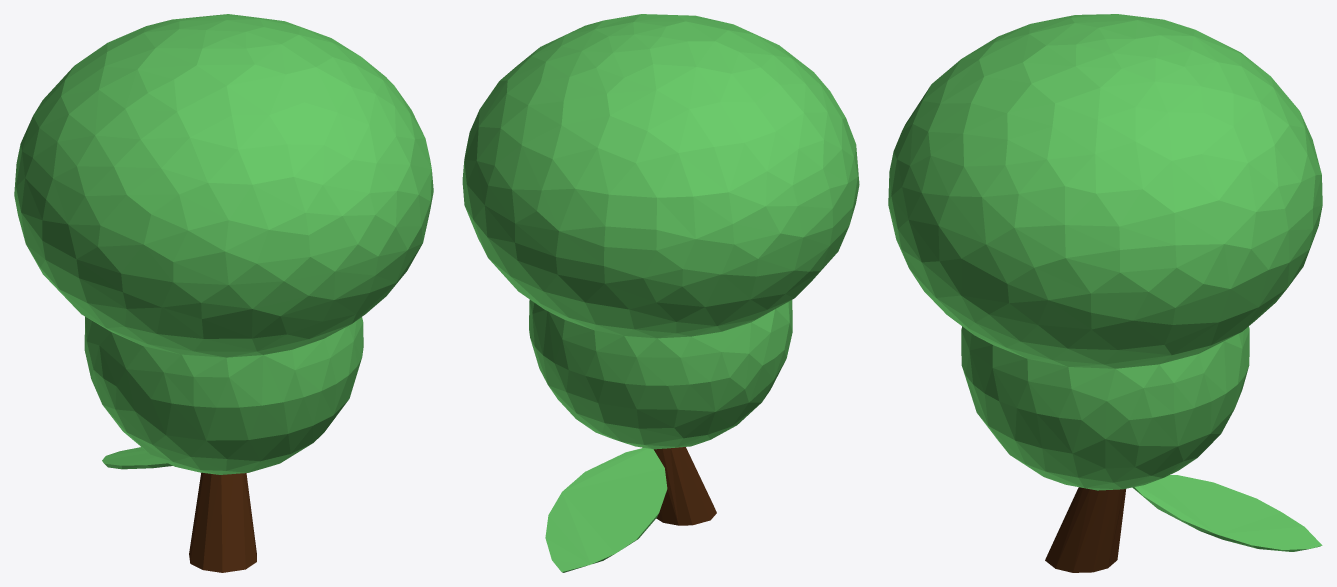
File: pomelo.fbx
3 renders of one model, left to right at view 1: azimuth 30°, elevation 25°; view 2: azimuth 150°, elevation 25°; view 3: azimuth 270°, elevation 25°, orthographic. The views are drawn at different scales.
Visible parts, largest first — view 1: 零件5; view 2: 零件5; view 3: 零件5.
Part boxes in pixels (x1,y1,x2,y2): 零件5: (14, 14, 433, 572); 零件5: (462, 14, 859, 572); 零件5: (888, 14, 1322, 572).
Size of the model in its own units: 8992 by 12000 by 8997.
